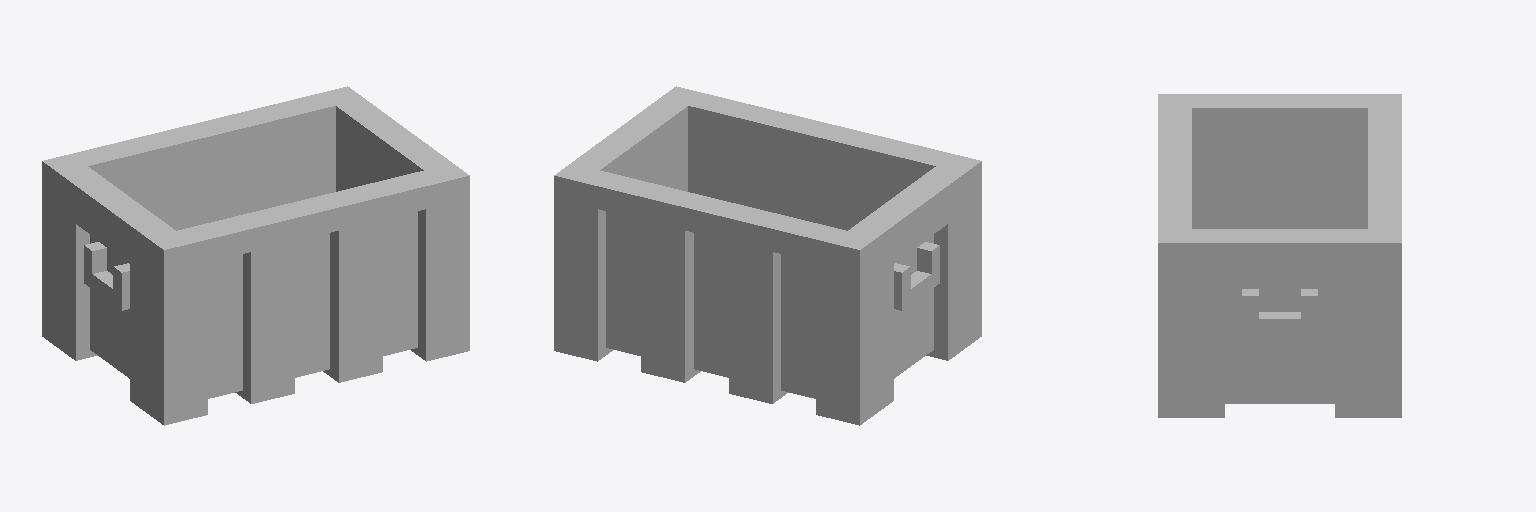
The model's file is Colorfull Crate.obj.
The picture shows the model from 3 angles: view 1: azimuth 30°, elevation 25°; view 2: azimuth 150°, elevation 25°; view 3: azimuth 270°, elevation 25°; orthographic projection.
Parts seen in each view (by area): view 1: group[number redacted], group[number redacted], group[number redacted], group[number redacted], group[number redacted], group[number redacted], group[number redacted], group[number redacted], group[number redacted], group[number redacted], group[number redacted], group[number redacted] (+8 smaller); view 2: group[number redacted], group[number redacted], group[number redacted], group[number redacted], group[number redacted], group[number redacted], group[number redacted], group[number redacted], group[number redacted], group[number redacted], group[number redacted], group[number redacted] (+8 smaller); view 3: group[number redacted], group[number redacted], group[number redacted], group[number redacted], group[number redacted], group[number redacted], group[number redacted], group[number redacted], group[number redacted], group[number redacted], group[number redacted], group[number redacted] (+1 smaller).
Boxes of the visible parts, <box> form: group[number redacted]: <box>162,167,445,398</box>; group[number redacted]: <box>65,96,348,228</box>; group[number redacted]: <box>156,234,207,417</box>; group[number redacted]: <box>330,191,382,374</box>; group[number redacted]: <box>418,169,469,353</box>; group[number redacted]: <box>243,212,294,396</box>; group[number redacted]: <box>90,106,335,230</box>; group[number redacted]: <box>50,164,89,352</box>; group[number redacted]: <box>336,102,437,191</box>; group[number redacted]: <box>130,222,169,411</box>; group[number redacted]: <box>74,166,175,378</box>; group[number redacted]: <box>76,182,143,262</box>; group[number redacted]: <box>675,96,958,230</box>; group[number redacted]: <box>578,167,861,383</box>; group[number redacted]: <box>816,234,867,417</box>; group[number redacted]: <box>641,191,693,374</box>; group[number redacted]: <box>554,169,605,353</box>; group[number redacted]: <box>729,212,780,396</box>; group[number redacted]: <box>934,164,973,352</box>; group[number redacted]: <box>586,102,687,191</box>; group[number redacted]: <box>854,222,893,411</box>; group[number redacted]: <box>848,166,949,378</box>; group[number redacted]: <box>606,212,815,398</box>; group[number redacted]: <box>880,182,947,262</box>; group[number redacted]: <box>1192,101,1367,228</box>; group[number redacted]: <box>1192,229,1367,403</box>; group[number redacted]: <box>1175,236,1224,410</box>; group[number redacted]: <box>1335,236,1384,410</box>; group[number redacted]: <box>1225,236,1334,280</box>; group[number redacted]: <box>1385,222,1401,410</box>; group[number redacted]: <box>1158,222,1174,410</box>; group[number redacted]: <box>1368,101,1384,235</box>; group[number redacted]: <box>1175,101,1191,235</box>; group[number redacted]: <box>1259,312,1300,333</box>; group[number redacted]: <box>1225,94,1334,100</box>; group[number redacted]: <box>1242,289,1258,333</box>.
Size of the model in its own units: 0.42 by 0.23 by 0.29.